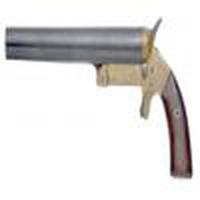gun: (6, 26, 193, 188)
